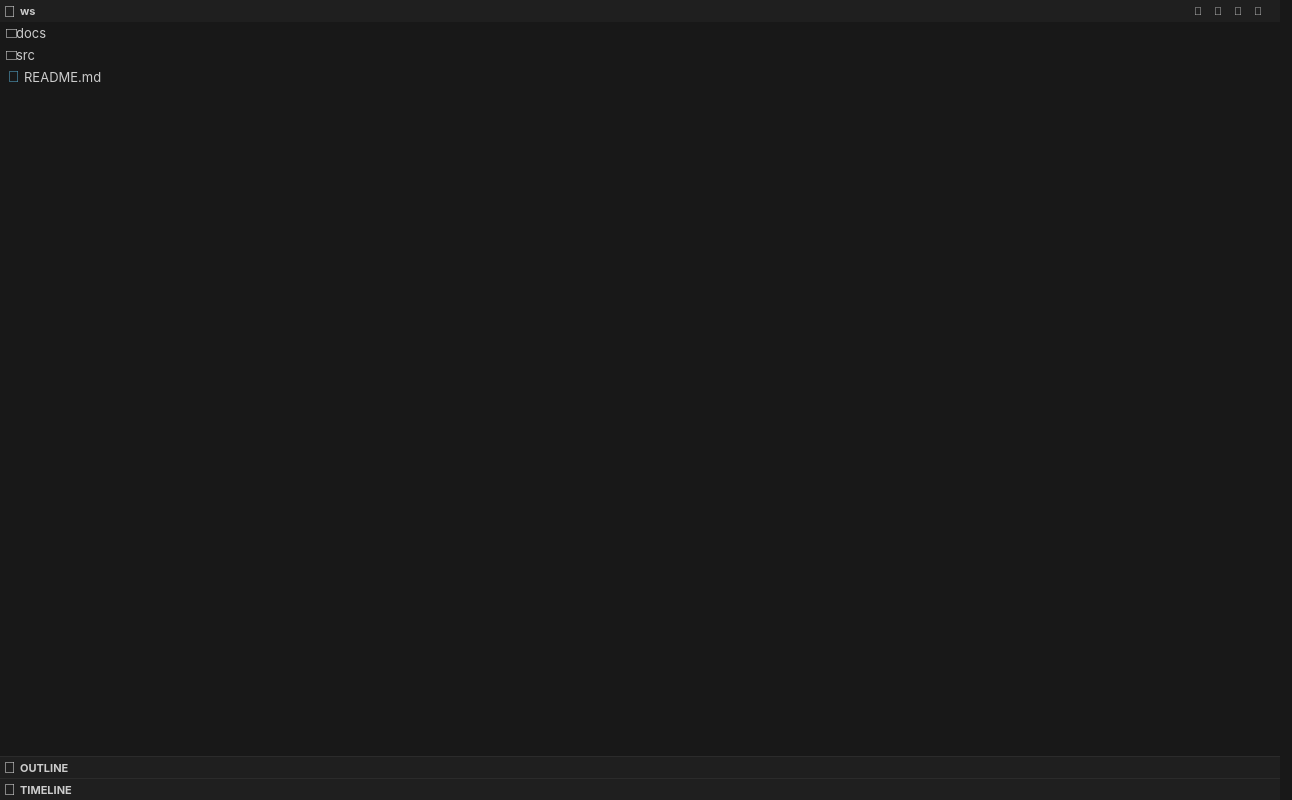
ExplorerView — input inline criar/renomear (A1.1/A1.2, 04_02 §4) › F2 na seleção renomeia; Enter confirma e a ÁRVORE mostra o novo nome
Click the text "README.md": (63, 77) x1=24 y1=69 x2=101 y2=85
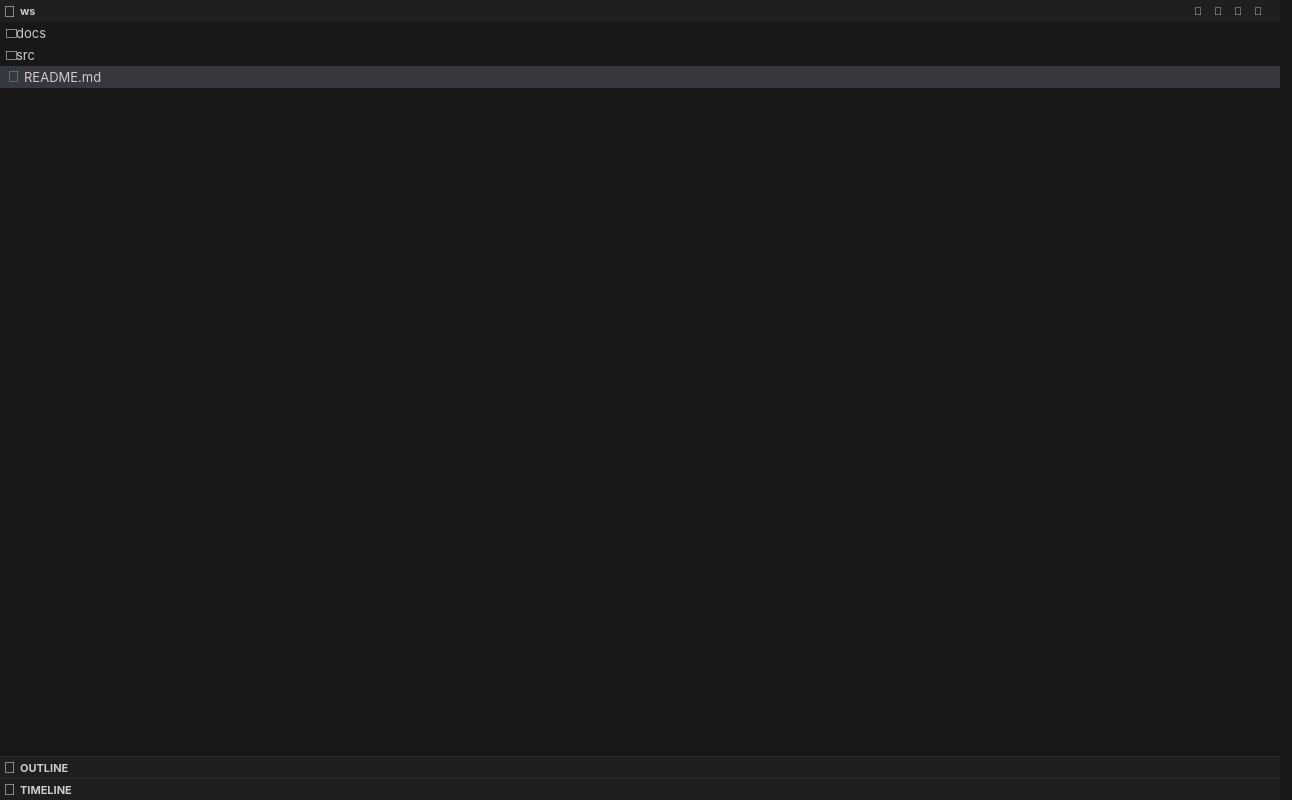
Press F2 in the element showing "docs src README.md", box x1=0 y1=22 x2=1280 y2=88
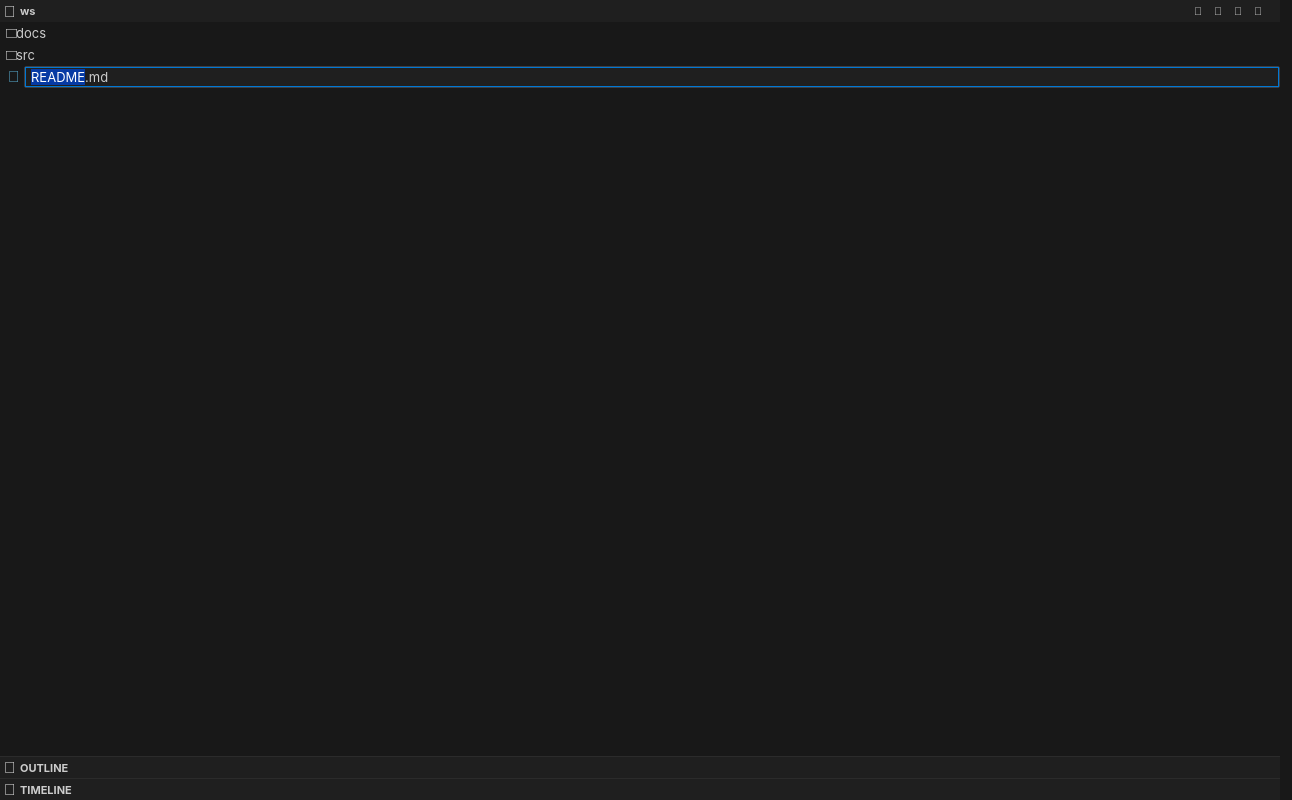
Replace the text in the field with test id "explorer-inline-input" with "LEIAME.md": (652, 77) x1=25 y1=67 x2=1279 y2=87
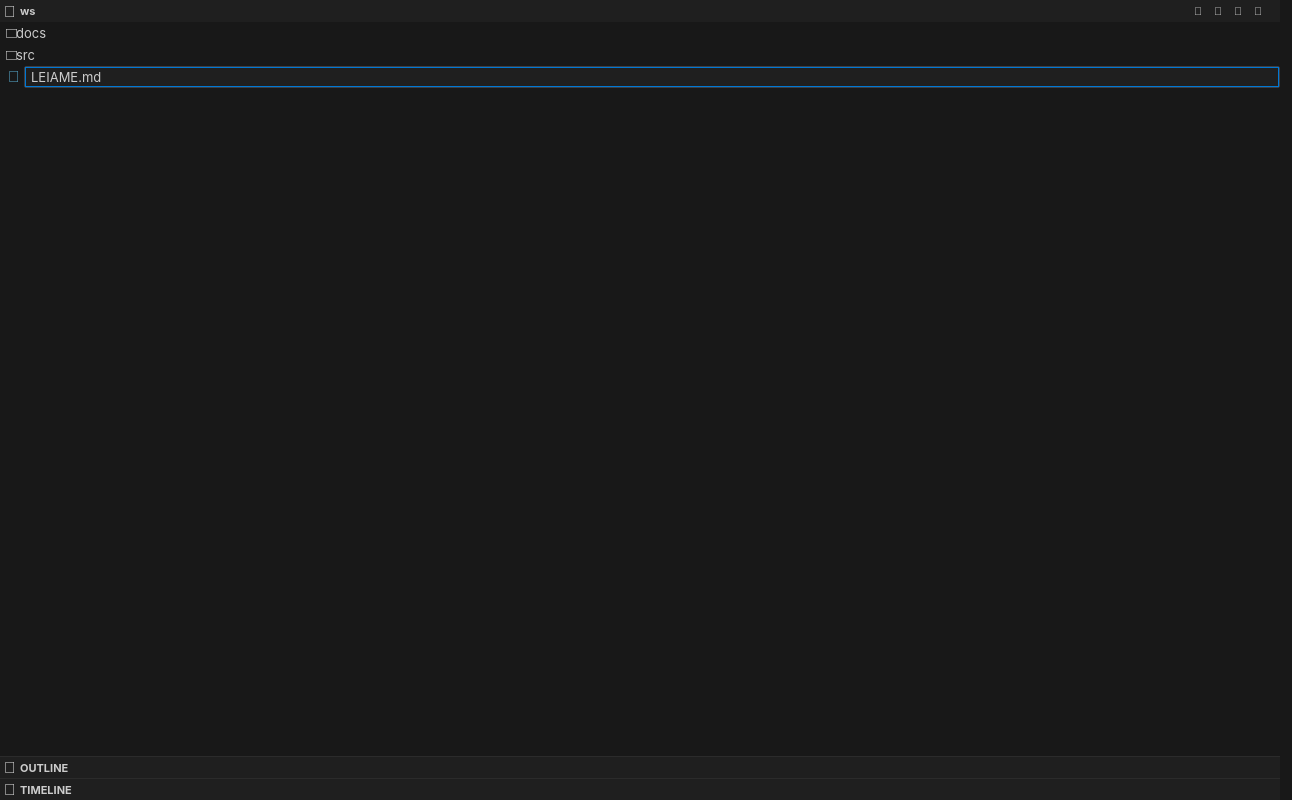
Press Enter in the field with test id "explorer-inline-input", box x1=25 y1=67 x2=1279 y2=87
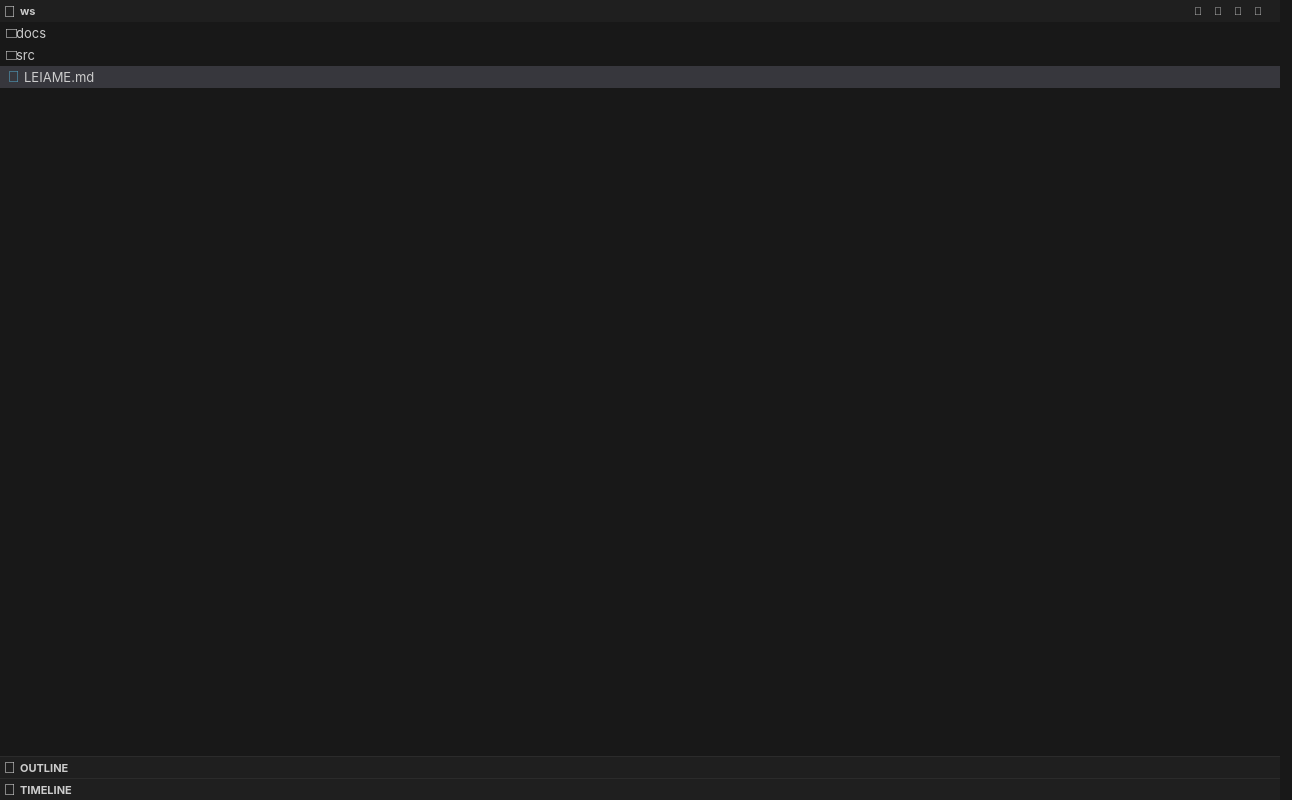
Expected: the text "README.md" is not shown
Now the text "LEIAME.md" is shown, box x1=24 y1=69 x2=94 y2=85
